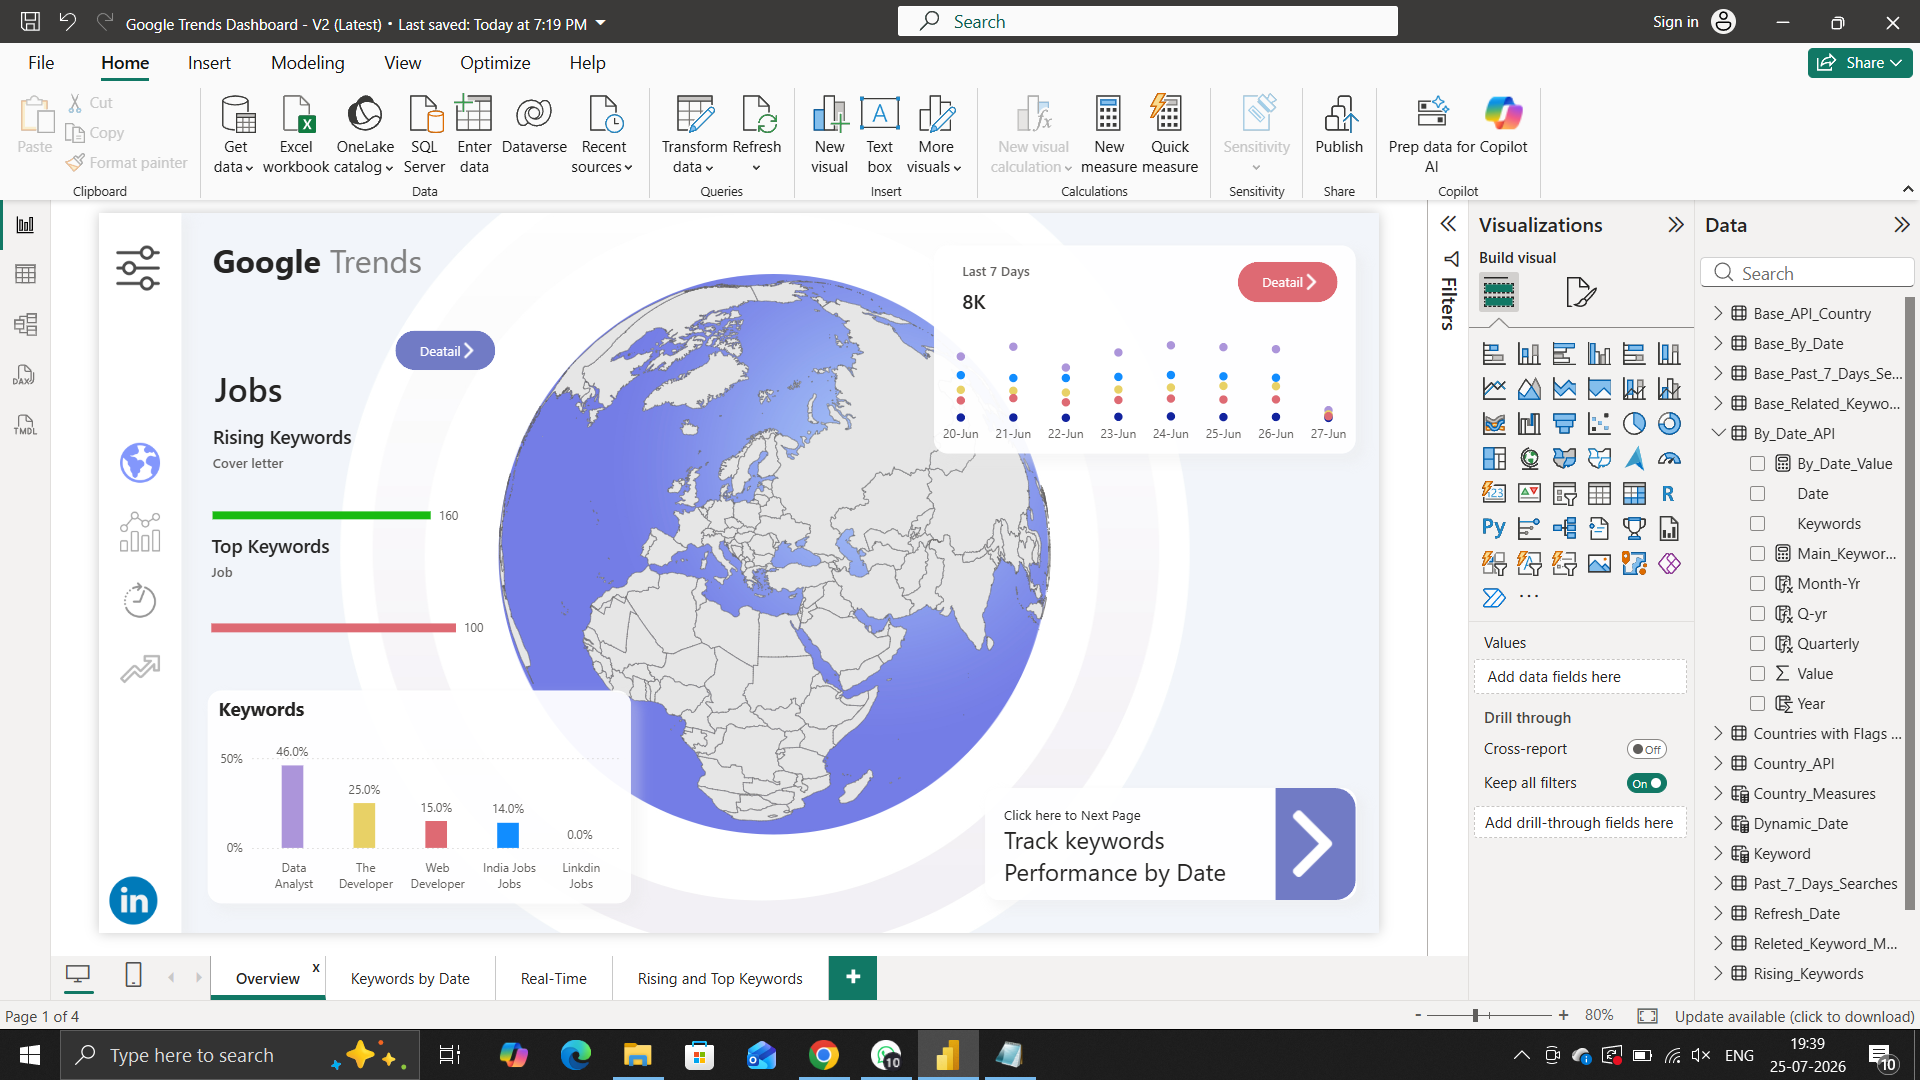

This screenshot's page, from the dashboard's own definition file:
{"tool":"powerbi","page":{"name":"Overview","canvas":[1280,720],"ordinal":0},"visuals":[{"type":"shapeMap","fields":{"Category":["Country_API.Country"],"Value":["Sum(Country_API.Search_Value%)"]},"box":[313.9,32.8,724.7,610.7],"z":0},{"type":"shape","box":[0,0,82.8,720],"z":1000},{"type":"shape","box":[835.6,32.8,421.7,207.7],"z":2000},{"type":"shape","box":[885.8,574.7,371.1,112.1],"z":3000},{"type":"actionButton","box":[1176.3,574.7,80.5,112.1],"z":4000},{"type":"clusteredColumnChart","title":"Keywords","fields":{"Y":["Country_Measures.Country_Value"],"Category":["Country_API.Keywords"]},"box":[109.3,477.9,423.3,212.4],"z":5000},{"type":"lineChart","fields":{"Series":["Past_7_Days_Searches.Keywords"],"Y":["Past_7_Days_Searches.Last_7_Days_Value"],"Category":["Past_7_Days_Searches.New_Date"]},"box":[835.6,104.6,421.7,134.3],"z":6000},{"type":"actionButton","box":[1138.6,48.4,100,40.6],"z":7000},{"type":"cardVisual","title":"Last 7 Days","fields":{"Data":["Past_7_Days_Searches.Last_7_Days_Value"]},"box":[846.5,32.8,115.6,84.3],"z":8000},{"type":"textbox","box":[899.6,587.2,276.4,103.1],"z":9000},{"type":"textbox","box":[109.3,21.9,268.6,67.2],"z":10000},{"type":"cardVisual","fields":{"Data":["By_Date_API.Imp_Value"]},"box":[98.8,134.5,179.8,73.8],"z":11000},{"type":"clusteredBarChart","title":"Rising Keywords","fields":{"Category":["Rising_Keywords.Title"],"Y":["Sum(Rising_Keywords.Vaule)"]},"box":[109.3,210.8,282.7,128.1],"z":12000},{"type":"image","box":[6.2,26.6,65.6,57.8],"z":13000},{"type":"clusteredBarChart","title":"Top Keywords","fields":{"Category":["Top_Keywords.Title"],"Y":["Sum(Top_Keywords.Value)"]},"box":[107.8,320.2,282.7,135.9],"z":14000},{"type":"actionButton","box":[9.4,18.7,65.6,60.9],"z":15000},{"type":"actionButton","box":[296.7,117.2,100.2,39.7],"z":16000},{"type":"image","box":[16.2,225,50,50],"z":18000},{"type":"image","box":[16.2,293.8,50,50],"z":19000},{"type":"image","box":[16.2,362.5,50,50],"z":20000},{"type":"image","box":[16.2,431.2,50,50],"z":21000},{"type":"image","box":[0,659.1,68.7,57.8],"z":22000}]}

Visuals, with their boxes on the page's 1280x720 design canvas (x1, y1, x2, y2). These are canvas units, not pixel positions in the 1920x1080 screenshot, which may show the page scaled, cropped or inside an application window:
shapeMap - Country_API.Country x Sum(Country_API.Search_Value%): [314,33,1039,644]
shape: [0,0,83,720]
shape: [836,33,1257,240]
shape: [886,575,1257,687]
actionButton: [1176,575,1257,687]
"Keywords" clusteredColumnChart: [109,478,533,690]
lineChart - Past_7_Days_Searches.Keywords x Past_7_Days_Searches.Last_7_Days_Value: [836,105,1257,239]
actionButton: [1139,48,1239,89]
"Last 7 Days" cardVisual: [846,33,962,117]
textbox: [900,587,1176,690]
textbox: [109,22,378,89]
cardVisual - By_Date_API.Imp_Value: [99,134,279,208]
"Rising Keywords" clusteredBarChart: [109,211,392,339]
image: [6,27,72,84]
"Top Keywords" clusteredBarChart: [108,320,390,456]
actionButton: [9,19,75,80]
actionButton: [297,117,397,157]
image: [16,225,66,275]
image: [16,294,66,344]
image: [16,362,66,412]
image: [16,431,66,481]
image: [0,659,69,717]
